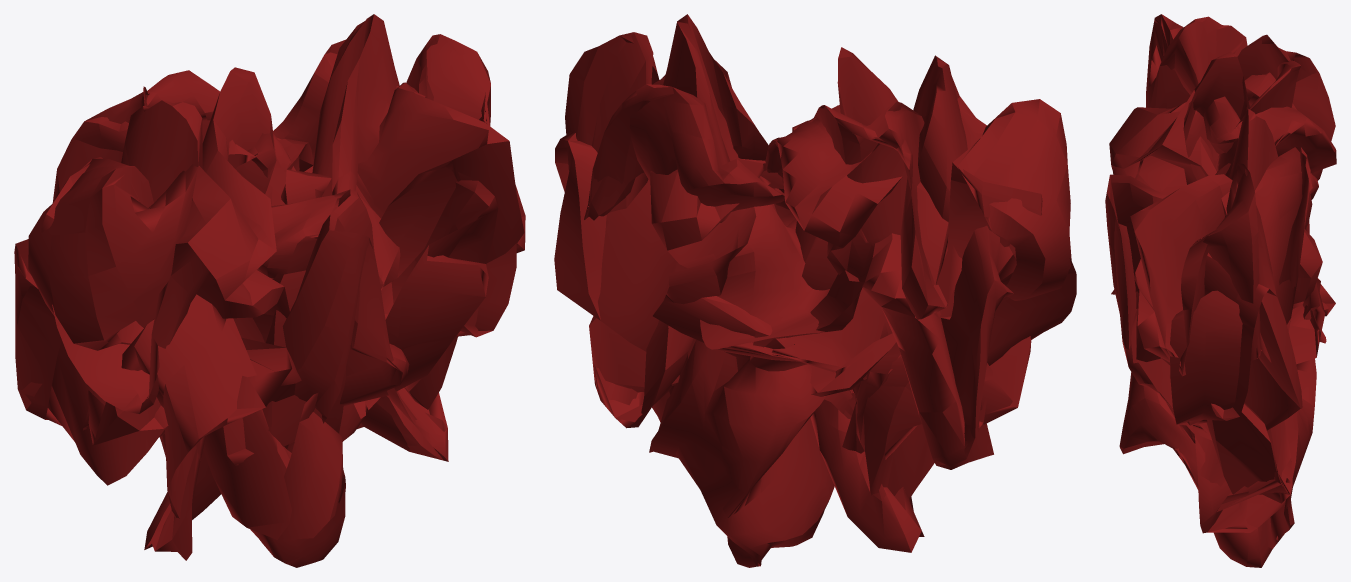
The model's file is 70 heart.obj.
3 views of the same model, side by side, from view 1: azimuth 30°, elevation 25°; view 2: azimuth 150°, elevation 25°; view 3: azimuth 270°, elevation 25° (orthographic). The views are drawn at different scales.
Parts seen in each view (by area): view 1: 000_Heart; view 2: 000_Heart; view 3: 000_Heart.
Part boxes in pixels (x1,y1,x2,y2): 000_Heart: (14,14,525,567); 000_Heart: (554,14,1076,567); 000_Heart: (1105,14,1336,567).
Bounding box in the file's own units: 308 × 324 × 140.
